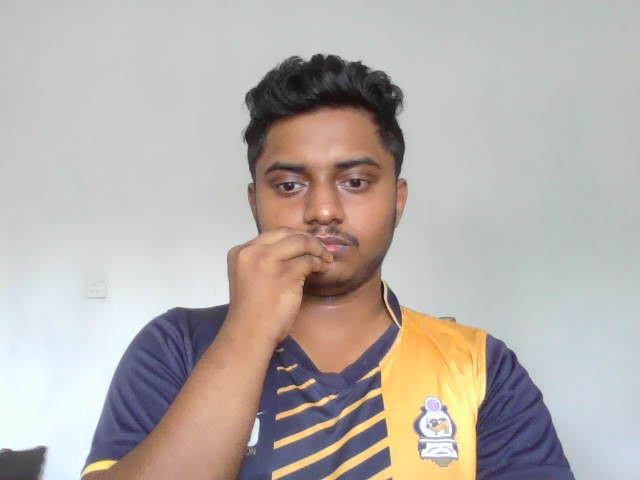Eat: (224, 227, 335, 344)
